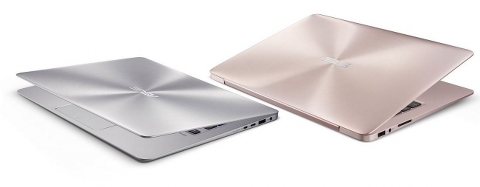pc: (209, 13, 474, 142), (17, 56, 279, 163)
